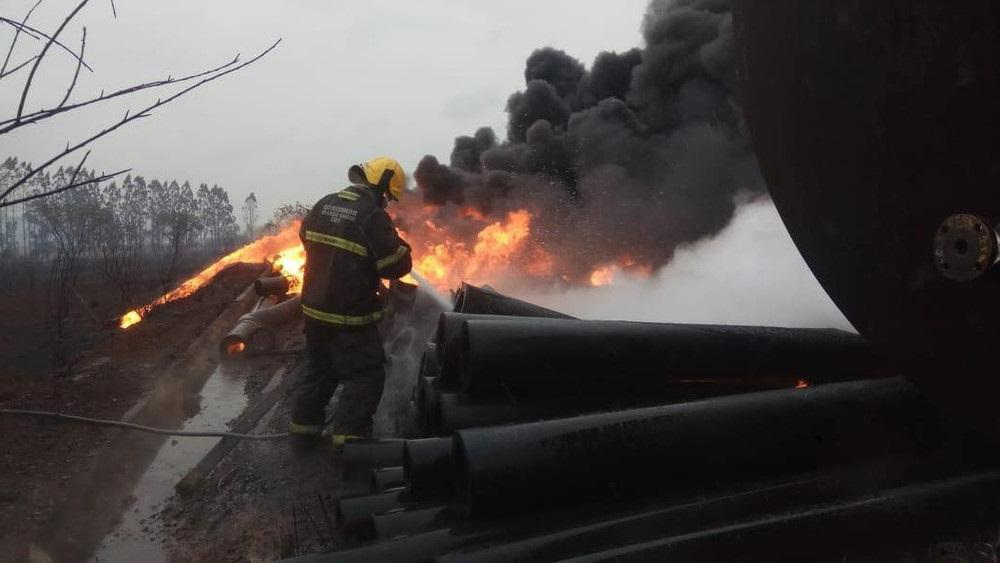Fire: (119, 190, 543, 329), (591, 253, 666, 287)
